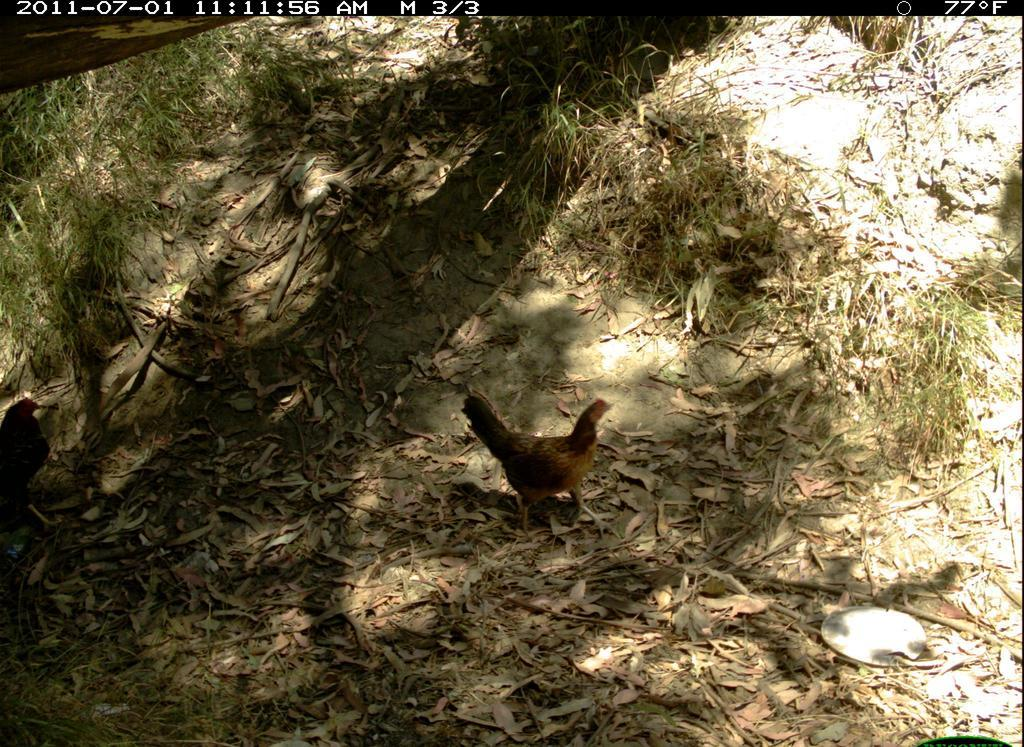bird: (2, 393, 56, 515)
